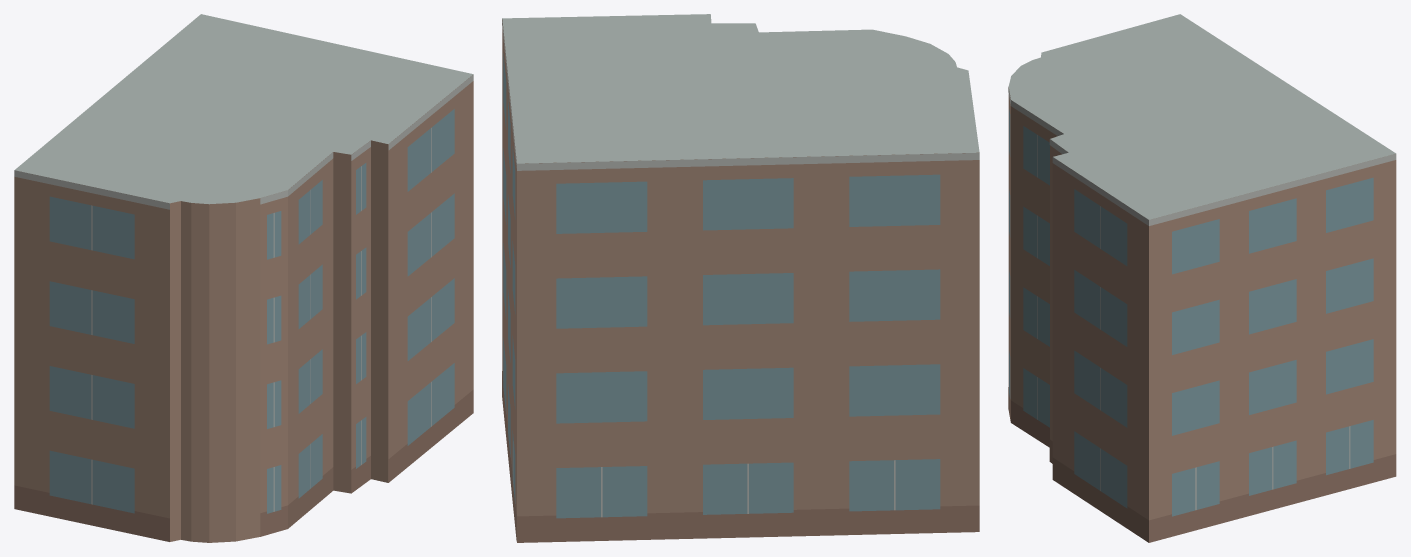
File: survey-upis-32863502.glb
The picture shows the model from 3 angles, left to right: view 1: azimuth 30°, elevation 25°; view 2: azimuth 150°, elevation 25°; view 3: azimuth 270°, elevation 25°; orthographic projection. The views are drawn at different scales.
Visible parts, largest first — view 1: survey-upis-32863502.tmp; view 2: survey-upis-32863502.tmp; view 3: survey-upis-32863502.tmp.
Boxes of the visible parts, <box> form: survey-upis-32863502.tmp: <box>14,14,473,542</box>; survey-upis-32863502.tmp: <box>502,14,979,542</box>; survey-upis-32863502.tmp: <box>1008,14,1396,542</box>.
Size of the model in its own units: 17.38 by 12.7 by 13.83.
